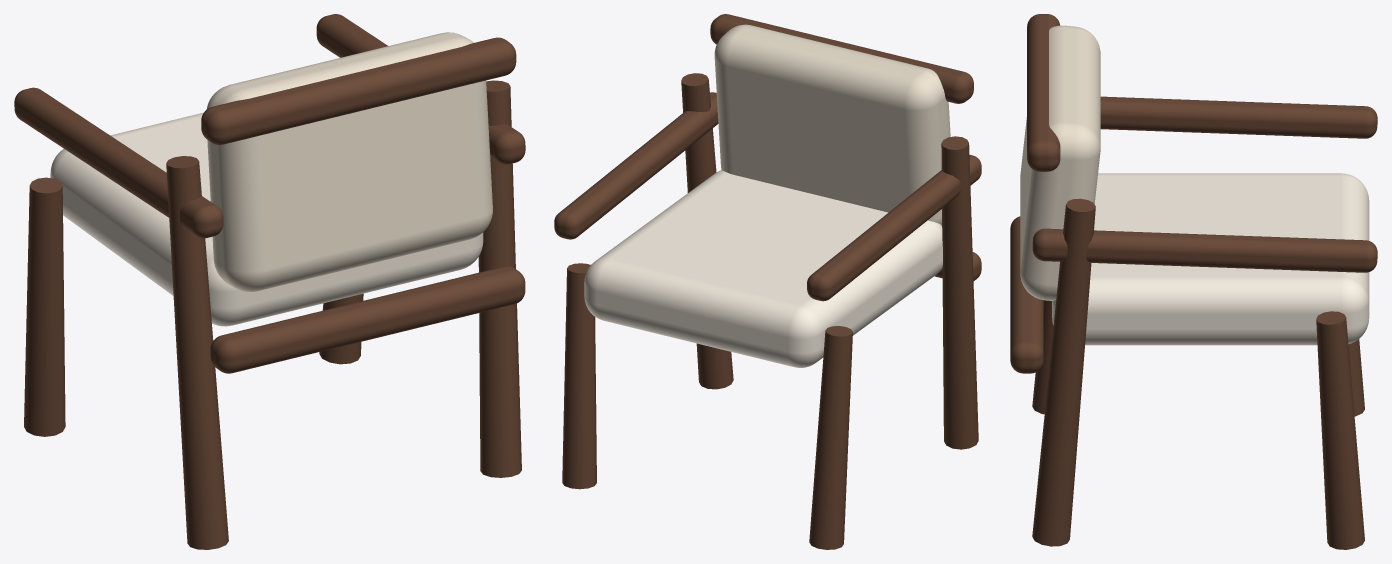
File: ikea-ekenaset.glb
3 views of the same model, side by side, from view 1: azimuth 30°, elevation 25°; view 2: azimuth 150°, elevation 25°; view 3: azimuth 270°, elevation 25° (orthographic). The views are drawn at different scales.
Visible parts, largest first — view 1: wood (×8), primary, cream; view 2: wood (×7), cream, primary; view 3: wood (×8), cream, primary.
Part boxes in pixels (x1,y1,x2,y2): wood (×8): (14, 14, 525, 549); primary: (206, 32, 492, 291); cream: (50, 112, 483, 326); wood (×7): (554, 14, 981, 549); cream: (584, 170, 942, 367); primary: (714, 24, 950, 225); wood (×8): (1010, 14, 1377, 549); cream: (1052, 173, 1369, 345); primary: (1020, 25, 1100, 300).
Size of the model in its own units: 0.6412 by 0.7969 by 0.66.
